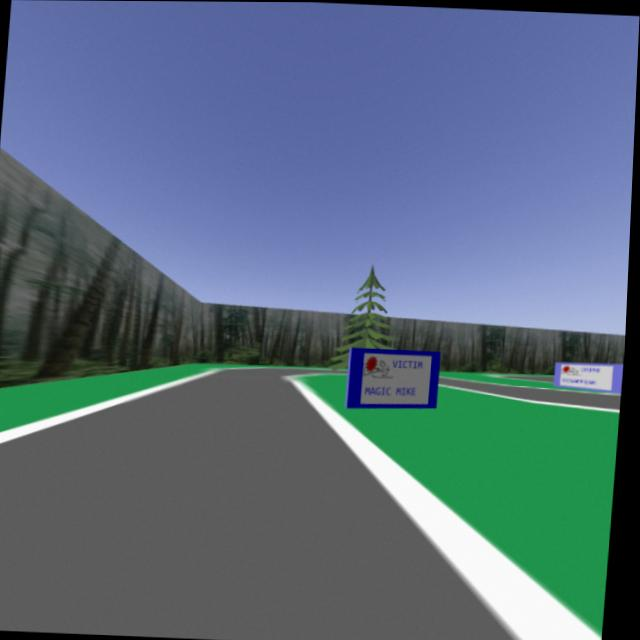clueboard: (340, 340, 446, 417), (547, 358, 623, 398)
